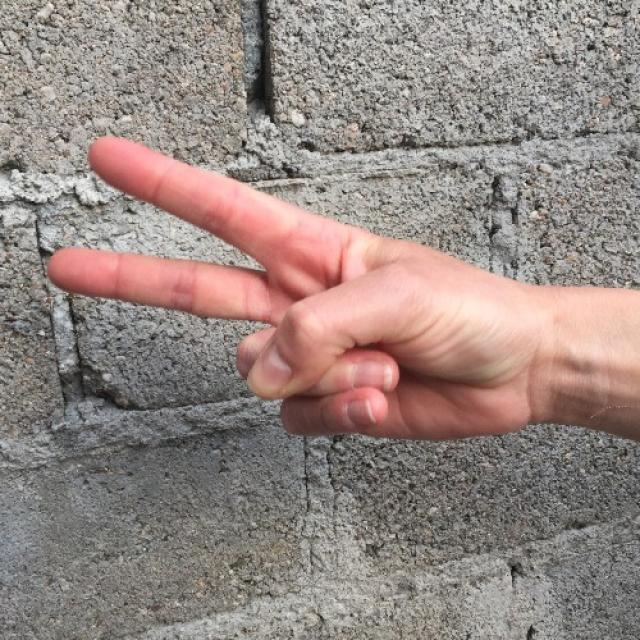scissors: (45, 137, 502, 441)
